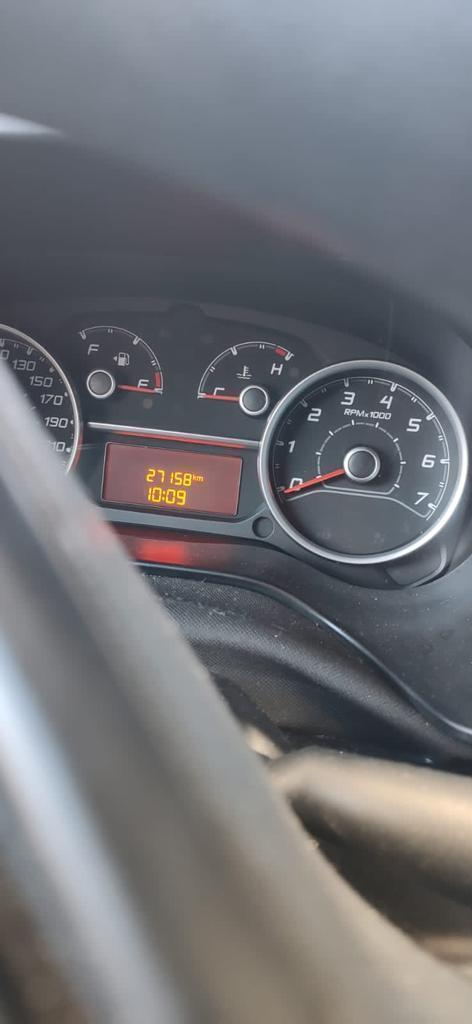0: (165, 488, 175, 504), (152, 486, 161, 502)
1: (145, 486, 151, 502), (168, 470, 173, 484)
2: (145, 468, 156, 483)
5: (174, 471, 182, 486)
7: (156, 469, 165, 483)
8: (182, 472, 191, 486)
9: (176, 489, 186, 506)
X: (196, 475, 203, 482), (161, 490, 165, 501), (192, 473, 196, 481)
odometer: (97, 439, 245, 520)
